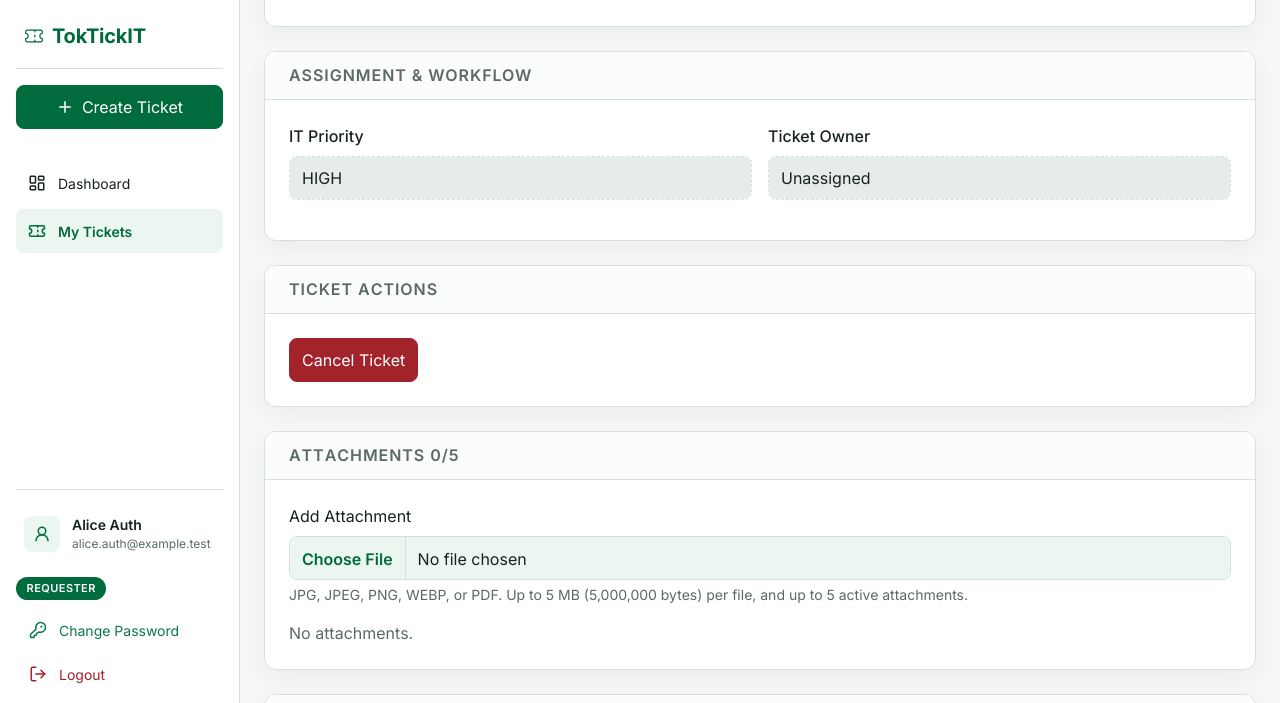
Test: authenticated Requester regression › UI-12 @issue-4 shows local reload recovery when a requester action conflicts
(page scrolled)
Click the button "Cancel Ticket" at (354, 360), box [289, 338, 418, 382]
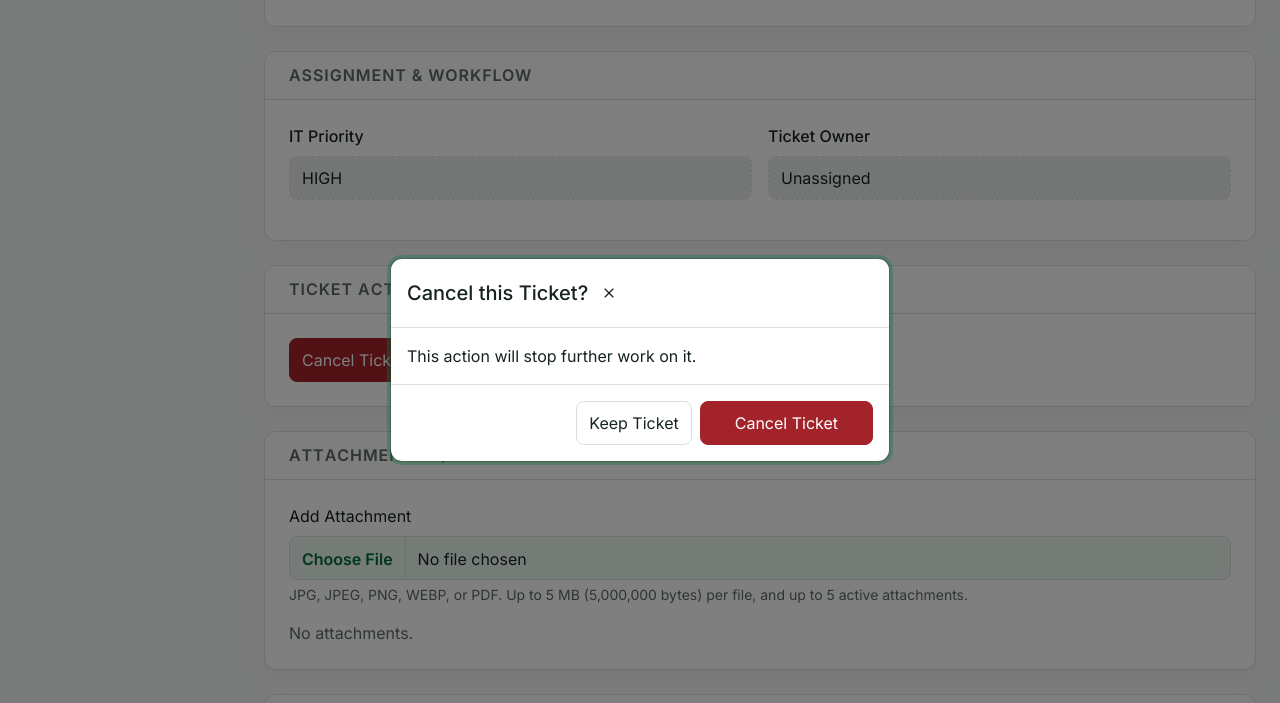
Click the button "Cancel Ticket" at (786, 423), box [700, 401, 873, 445]
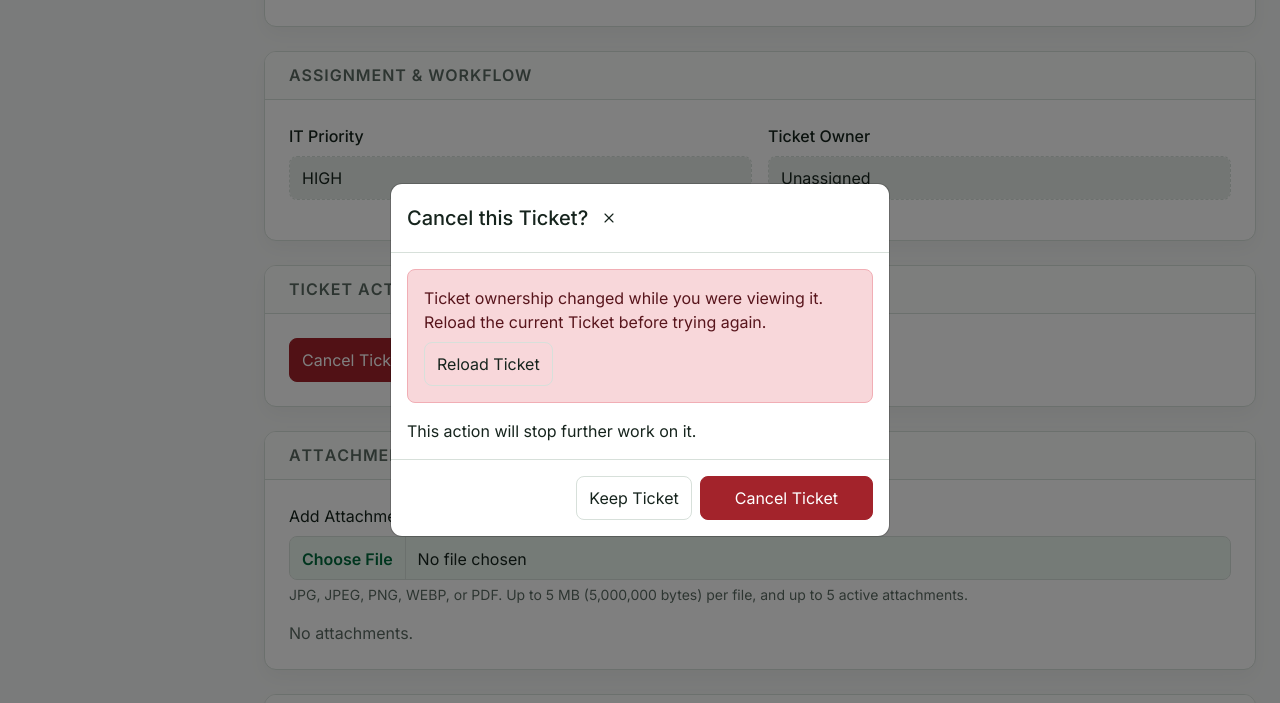
Expected: the message shows "Ticket ownership changed while you were viewing it.", [424, 288, 823, 332]
Click the button "Reload Ticket" at (488, 364), box [424, 342, 553, 386]
(page scrolled)
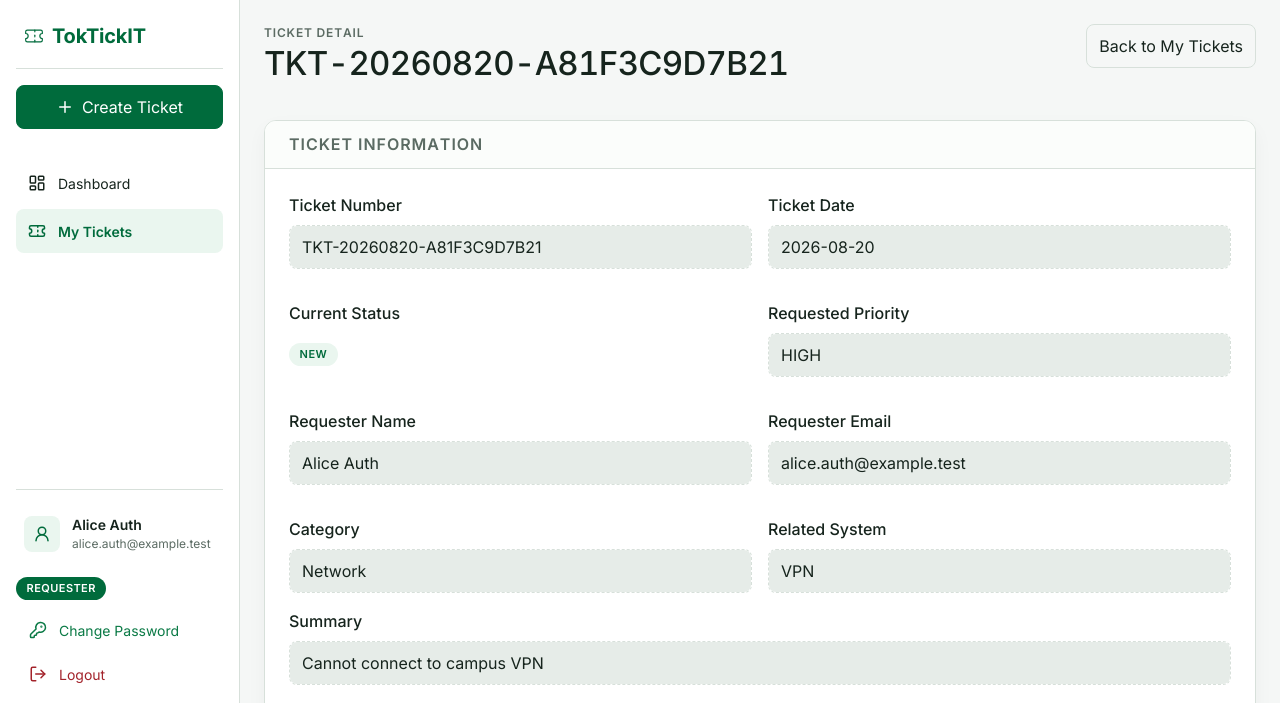
Expected: the dialog is gone
